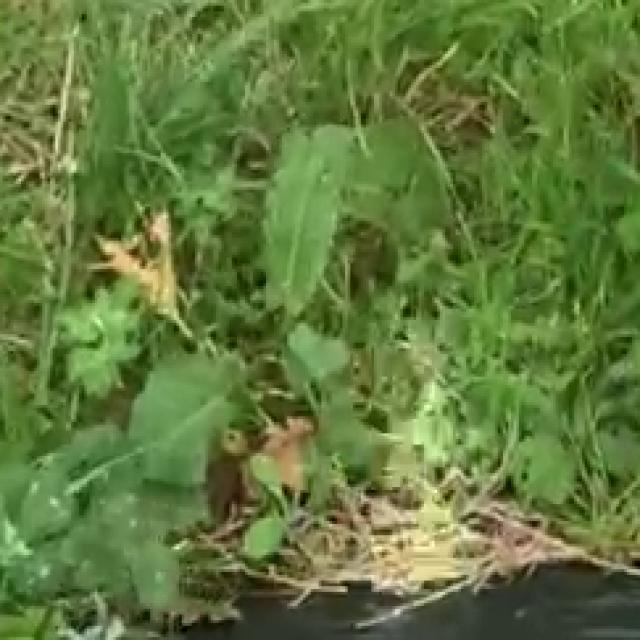organic waste: (2, 362, 290, 626), (221, 90, 474, 377)
